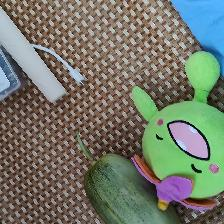gua: (85, 163, 147, 224)
